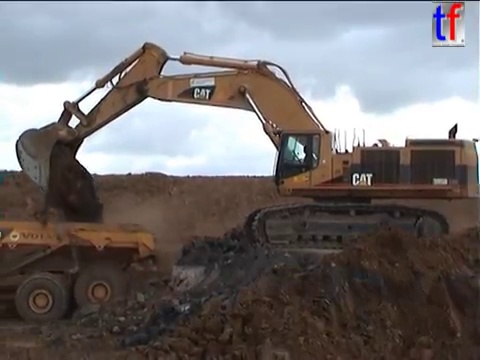excavator: (11, 38, 480, 255)
truck: (1, 218, 158, 327)
